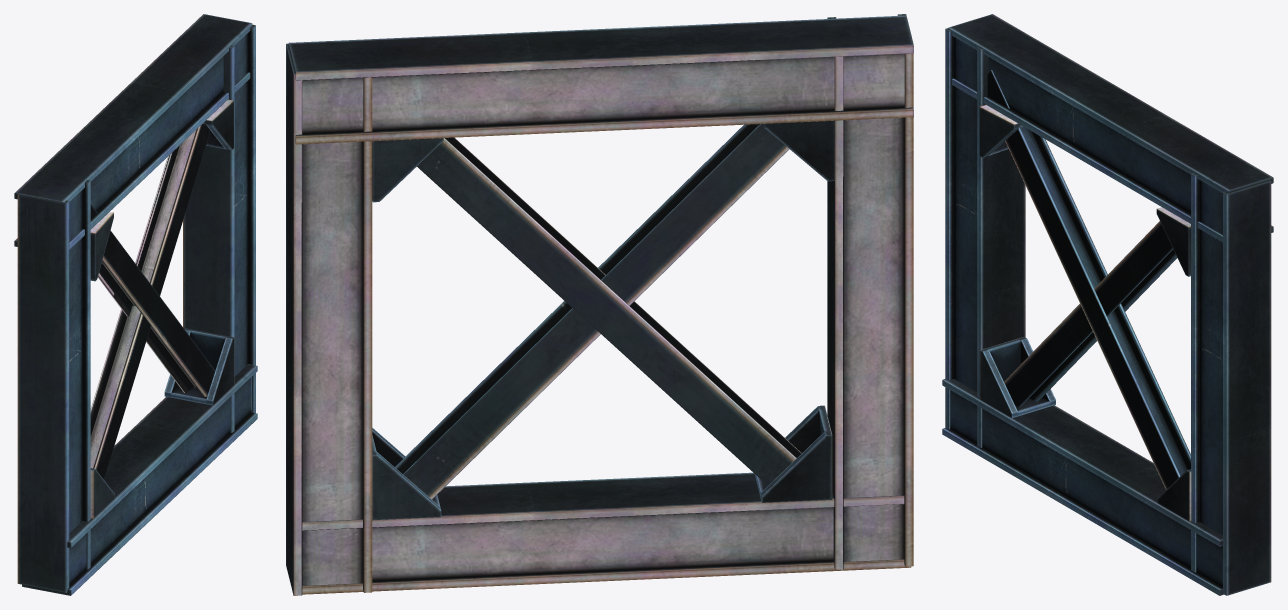
Rendered from beam_boxed_with_cross (1).fbx.
3 views of the same model, side by side, from view 1: azimuth 30°, elevation 25°; view 2: azimuth 150°, elevation 25°; view 3: azimuth 270°, elevation 25° (orthographic). The views are drawn at different scales.
Visible parts, largest first — view 1: Beam_Quad__18_, Beam_Quad__2_, Beam_Quad__3_, Beam_Quad__12_, Beam_Tavric__14_, Beam_Tavric__15_, beam_boxed_with_cross__1_; view 2: Beam_Quad__2_, Beam_Quad__12_, Beam_Quad__3_, Beam_Quad__18_, Beam_Tavric__15_, Beam_Tavric__14_, beam_boxed_with_cross__1_; view 3: Beam_Quad__3_, Beam_Quad__2_, Beam_Quad__18_, Beam_Quad__12_, Beam_Tavric__15_, Beam_Tavric__14_, beam_boxed_with_cross__1_.
Boxes of the visible parts, box(x1,y1,x2,y2) form: Beam_Quad__18_: box(17, 180, 90, 592); Beam_Quad__2_: box(14, 14, 252, 249); Beam_Quad__3_: box(183, 24, 255, 432); Beam_Quad__12_: box(22, 364, 257, 595); Beam_Tavric__14_: box(90, 124, 210, 479); Beam_Tavric__15_: box(90, 204, 215, 396); beam_boxed_with_cross__1_: box(90, 99, 234, 518); Beam_Quad__2_: box(288, 15, 913, 144); Beam_Quad__12_: box(302, 472, 911, 594); Beam_Quad__3_: box(286, 43, 372, 595); Beam_Quad__18_: box(827, 14, 913, 569); Beam_Tavric__15_: box(395, 124, 789, 499); Beam_Tavric__14_: box(417, 137, 801, 485); beam_boxed_with_cross__1_: box(372, 120, 834, 520); Beam_Quad__3_: box(1191, 173, 1271, 595); Beam_Quad__2_: box(948, 14, 1273, 242); Beam_Quad__18_: box(945, 28, 1025, 447); Beam_Quad__12_: box(942, 378, 1223, 595); Beam_Tavric__15_: box(987, 70, 1190, 489); Beam_Tavric__14_: box(1004, 221, 1177, 407); beam_boxed_with_cross__1_: box(979, 105, 1191, 521).
Size of the model in its own units: 91.63 by 96.94 by 71.87.
